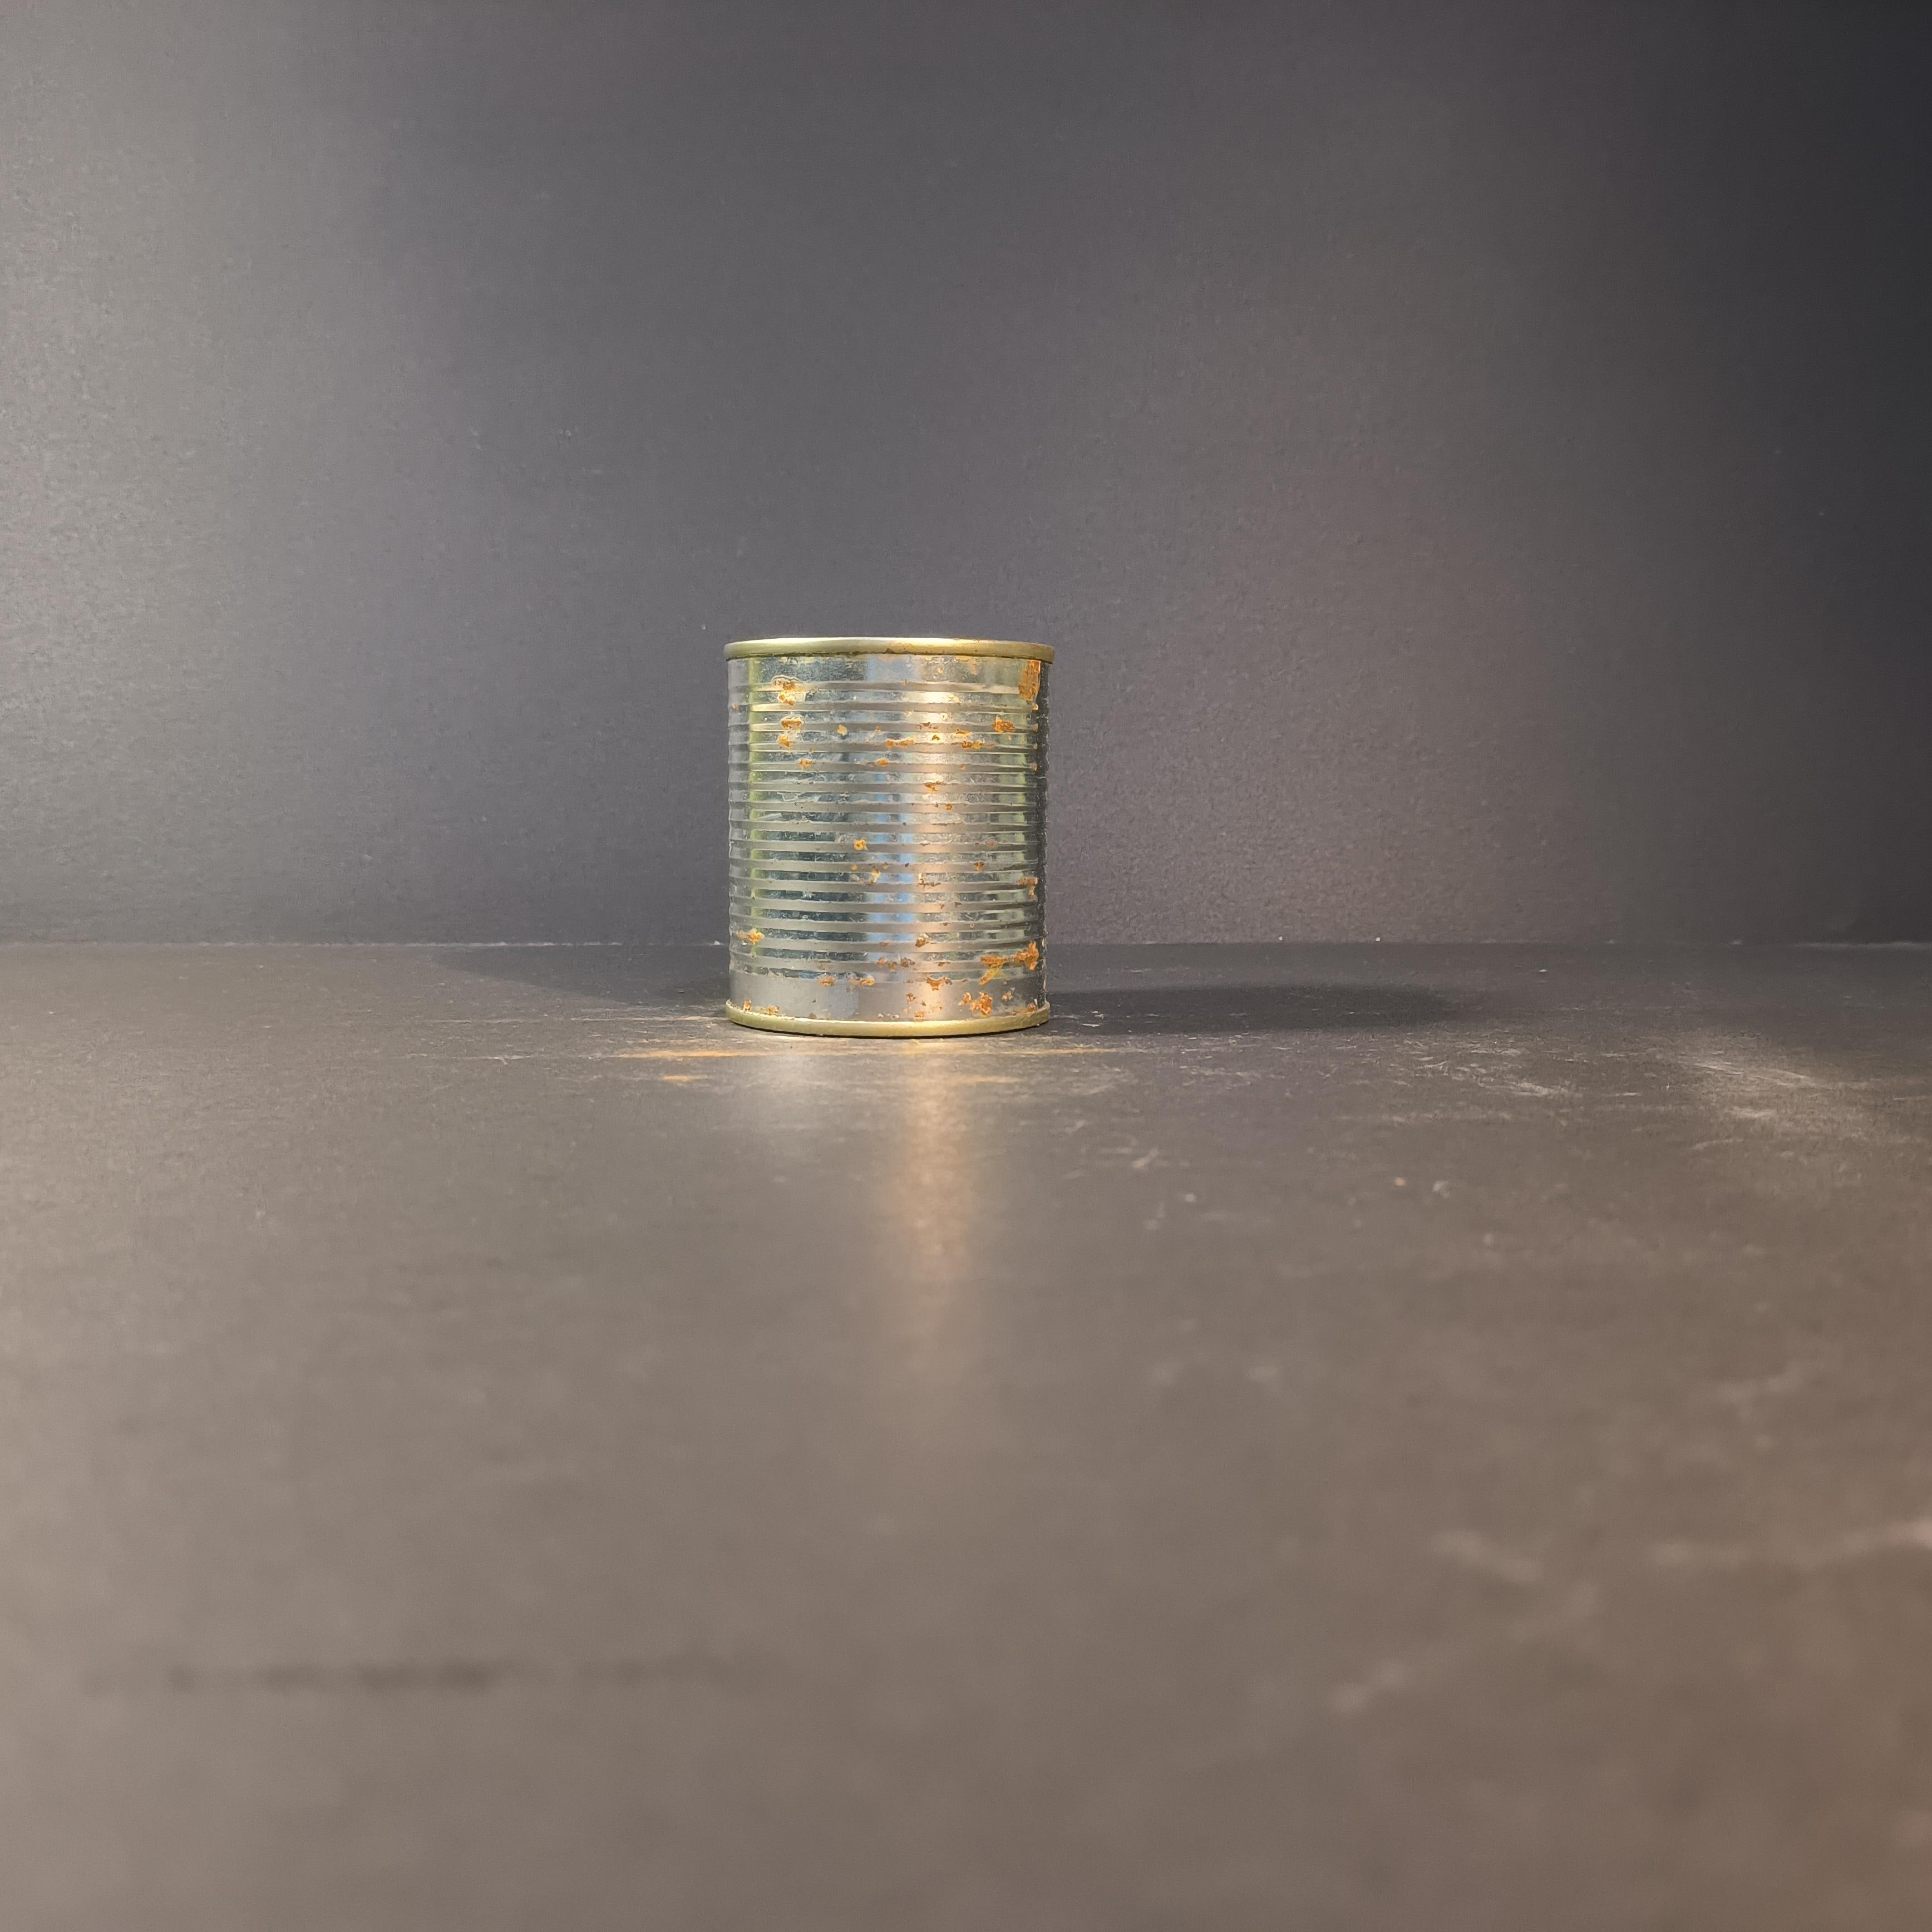Minor Defect: (713, 621, 1058, 1051)
